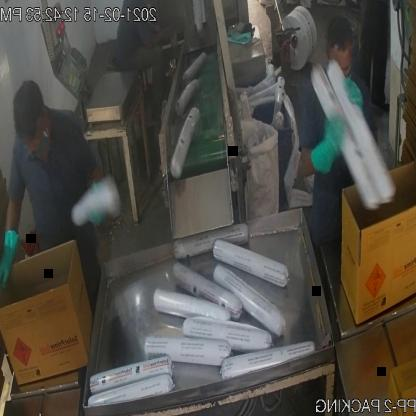glove: (299, 114, 349, 185), (0, 221, 21, 298)
no_glove: (140, 26, 174, 59)
